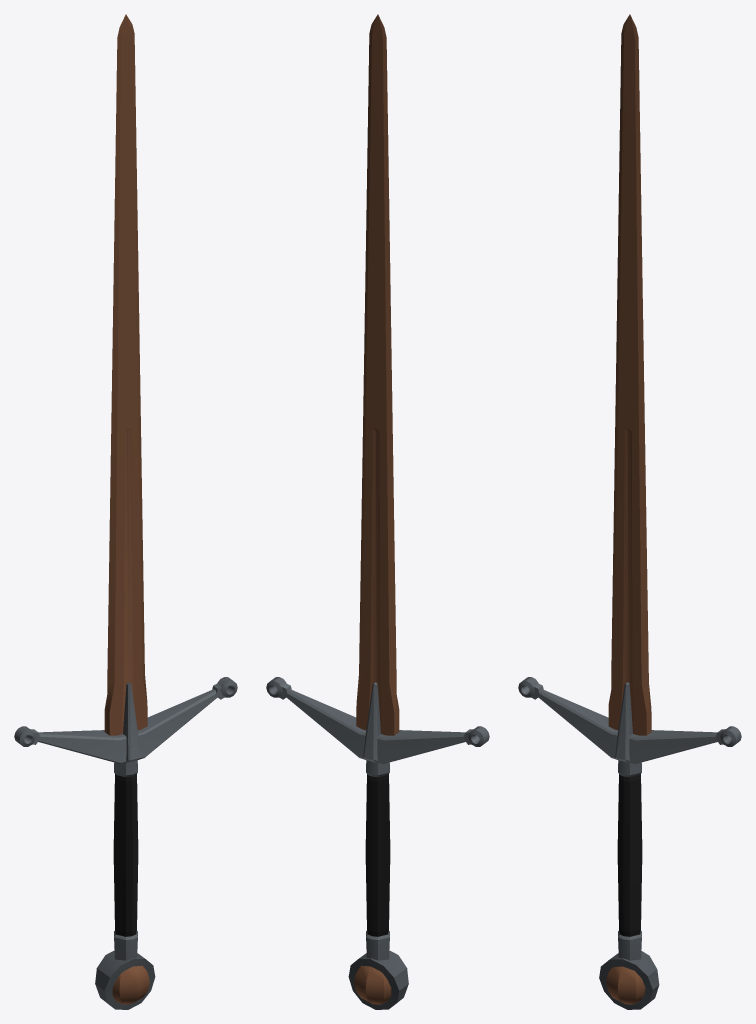
Rendered from SM_Sword02_Claymore_4Bronze.fbx.
3 renders of one model, left to right at view 1: azimuth 30°, elevation 25°; view 2: azimuth 150°, elevation 25°; view 3: azimuth 330°, elevation 25°, orthographic.
Parts seen in each view (by area): view 1: Cube.320, Cube.321, Cylinder.396, Cylinder.397, Sphere.121, Cylinder.395; view 2: Cube.320, Cube.321, Cylinder.396, Cylinder.397, Sphere.121, Cylinder.395; view 3: Cube.320, Cube.321, Cylinder.396, Cylinder.397, Sphere.121, Cylinder.395.
Boxes of the visible parts, <box> form: Cube.320: <box>104,14,147,735</box>; Cube.321: <box>38,682,217,763</box>; Cylinder.396: <box>113,760,138,960</box>; Cylinder.397: <box>95,950,155,1009</box>; Sphere.121: <box>112,965,149,1004</box>; Cylinder.395: <box>14,677,237,746</box>; Cube.320: <box>356,14,399,735</box>; Cube.321: <box>286,682,465,763</box>; Cylinder.396: <box>365,760,390,960</box>; Cylinder.397: <box>348,950,408,1009</box>; Sphere.121: <box>354,965,391,1004</box>; Cylinder.395: <box>266,677,489,746</box>; Cube.320: <box>608,14,651,735</box>; Cube.321: <box>538,682,717,763</box>; Cylinder.396: <box>617,760,642,960</box>; Cylinder.397: <box>599,951,659,1009</box>; Sphere.121: <box>606,966,645,1004</box>; Cylinder.395: <box>518,677,741,746</box>.
Bounding box in the file's own units: 0.2982 × 1.3 × 0.0587.
